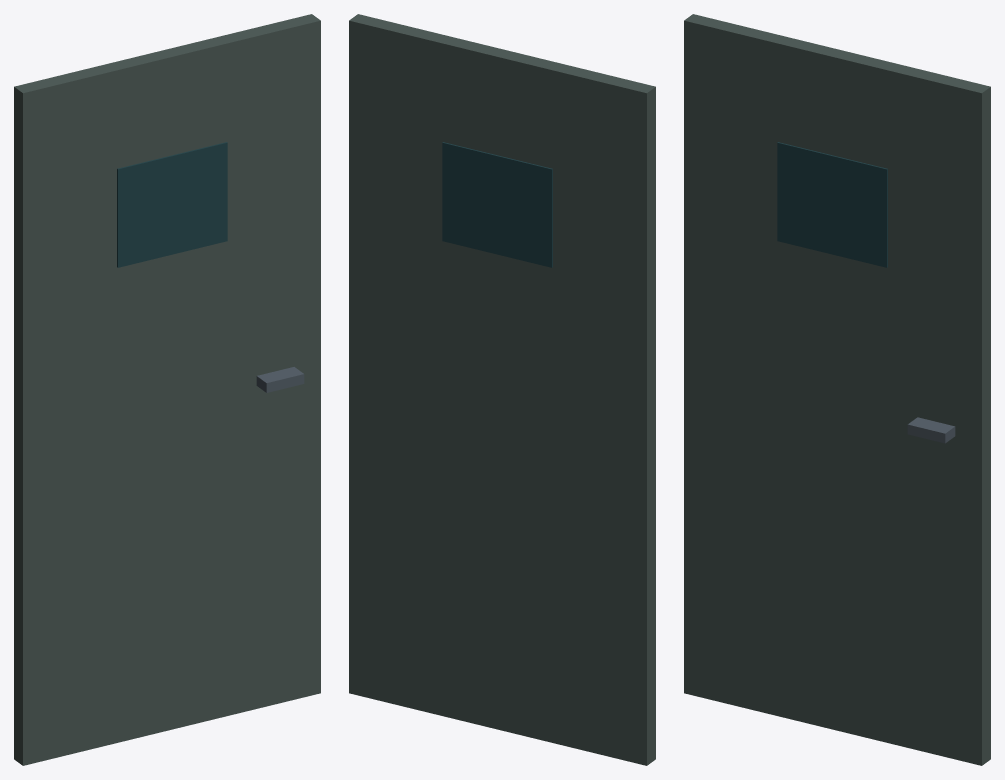
File: door.glb
The picture shows the model from 3 angles, left to right: view 1: azimuth 30°, elevation 25°; view 2: azimuth 150°, elevation 25°; view 3: azimuth 330°, elevation 25°; orthographic projection.
Parts seen in each view (by area): view 1: door; view 2: door; view 3: door.
Boxes of the visible parts, bbox=[...] form: door: bbox=[14, 14, 320, 765]; door: bbox=[349, 14, 655, 765]; door: bbox=[684, 14, 990, 765].
Size of the model in its own units: 0.95 by 2.05 by 0.11.
